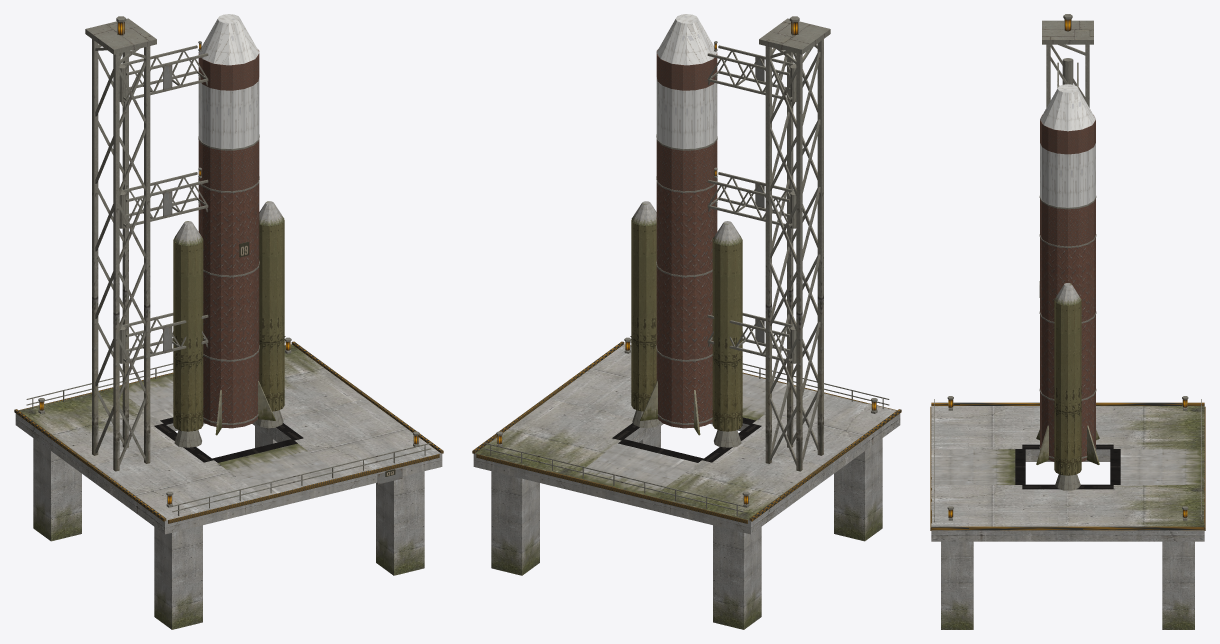
File: rocket-platform.glb
3 renders of one model, left to right at view 1: azimuth 30°, elevation 25°; view 2: azimuth 150°, elevation 25°; view 3: azimuth 270°, elevation 25°, orthographic. The views are drawn at different scales.
Parts seen in each view (by area): view 1: rocket-platform_concrete, rocket-ascent_metal, rocket-platform_metal, rocket-ascent_concrete, rocket-platform_signage, service-tower-swing-arm_metal.002, service-tower-swing-arm_metal.003, service-tower-swing-arm_metal.001; view 2: rocket-platform_concrete, rocket-ascent_metal, rocket-platform_metal, rocket-ascent_concrete, rocket-platform_signage, service-tower-swing-arm_metal.002, service-tower-swing-arm_metal.003, service-tower-swing-arm_metal.001; view 3: rocket-platform_concrete, rocket-ascent_metal, rocket-ascent_concrete, rocket-platform_metal, rocket-platform_signage, service-tower-swing-arm_metal.003.
Boxes of the visible parts, x1,y1,x2,y2 form: rocket-platform_concrete: (15, 344, 442, 629); rocket-ascent_metal: (173, 49, 284, 447); rocket-platform_metal: (26, 16, 431, 515); rocket-ascent_concrete: (174, 14, 284, 435); rocket-platform_signage: (14, 341, 443, 523); service-tower-swing-arm_metal.002: (119, 167, 208, 228); service-tower-swing-arm_metal.003: (119, 41, 208, 102); service-tower-swing-arm_metal.001: (119, 313, 208, 363); rocket-platform_concrete: (473, 344, 900, 629); rocket-ascent_metal: (631, 49, 742, 447); rocket-platform_metal: (484, 16, 889, 515); rocket-ascent_concrete: (631, 14, 741, 435); rocket-platform_signage: (472, 341, 901, 523); service-tower-swing-arm_metal.002: (707, 167, 796, 228); service-tower-swing-arm_metal.003: (707, 41, 796, 102); service-tower-swing-arm_metal.001: (707, 313, 796, 363); rocket-platform_concrete: (931, 406, 1204, 629); rocket-ascent_metal: (1039, 115, 1096, 490); rocket-ascent_concrete: (1036, 84, 1099, 464); rocket-platform_metal: (934, 14, 1201, 522); rocket-platform_signage: (930, 402, 1205, 530); service-tower-swing-arm_metal.003: (1057, 58, 1078, 88).
Bounding box in the file's own units: 45.4 × 86.31 × 42.3.
4 materials, 4 textured.
